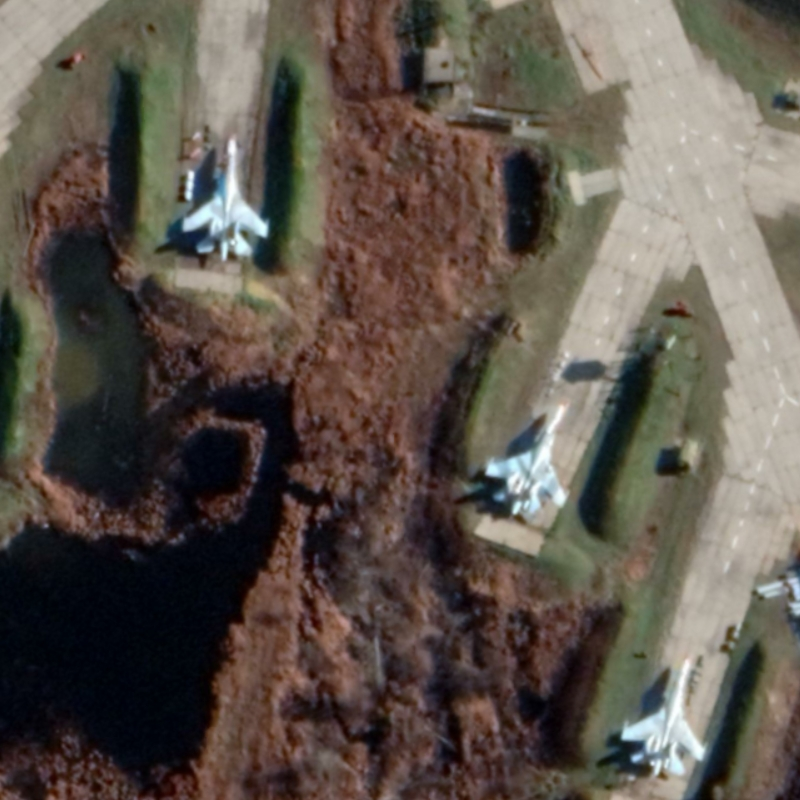A1: (178, 133, 271, 263), (618, 656, 710, 779), (482, 402, 572, 517)
